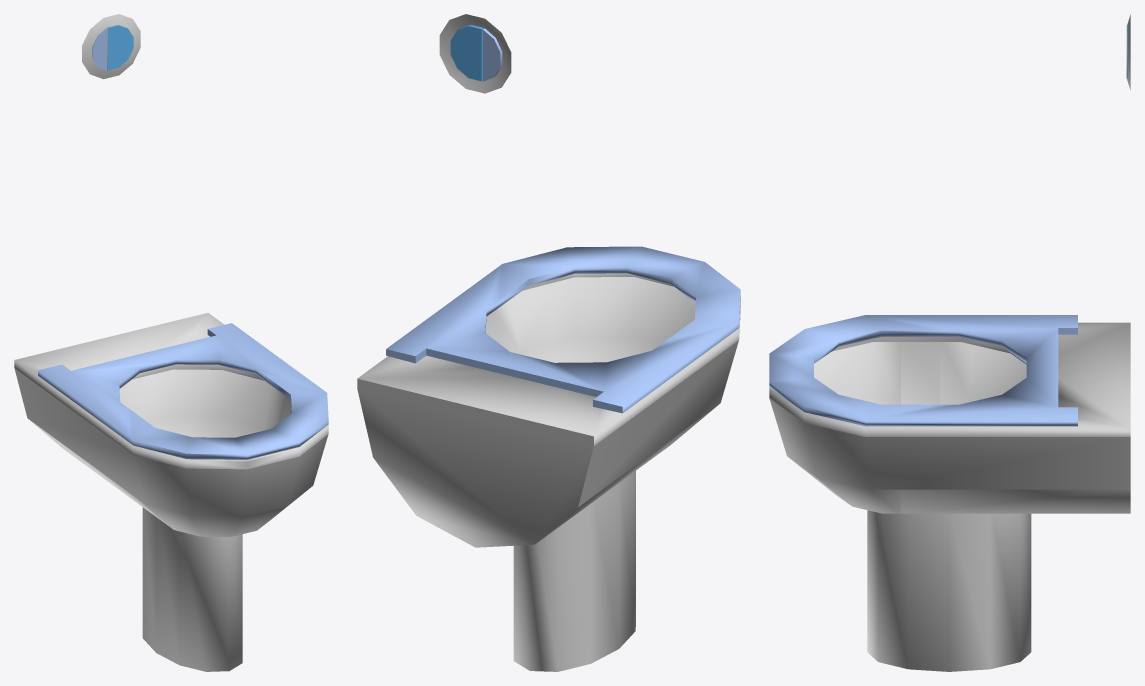
The model's file is toilet.glb.
3 views of the same model, side by side, from view 1: azimuth 30°, elevation 25°; view 2: azimuth 150°, elevation 25°; view 3: azimuth 270°, elevation 25° (orthographic). The views are drawn at different scales.
Parts seen in each view (by area): view 1: symbol; view 2: symbol; view 3: symbol.
Part boxes in pixels (left/top/right/bottom): symbol: left=14, top=14, right=328, bottom=671; symbol: left=357, top=14, right=740, bottom=671; symbol: left=769, top=14, right=1130, bottom=671.
Bounding box in the file's own units: 0.38 × 1.07 × 0.55.
